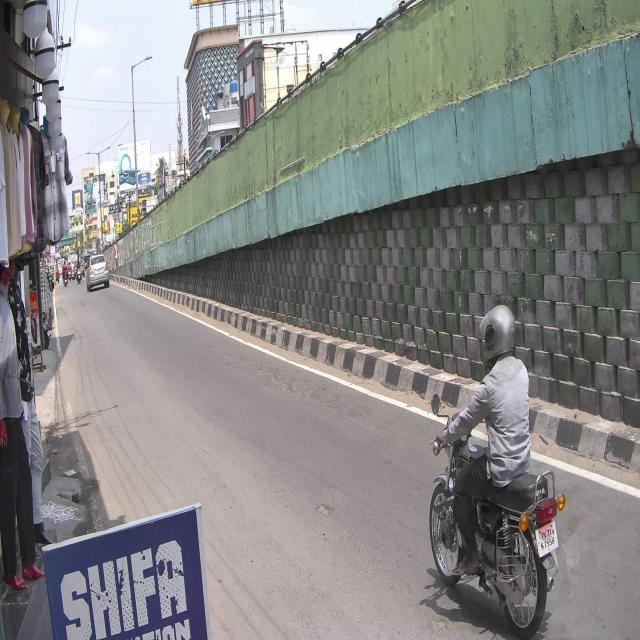single_rider: (430, 301, 558, 640)
